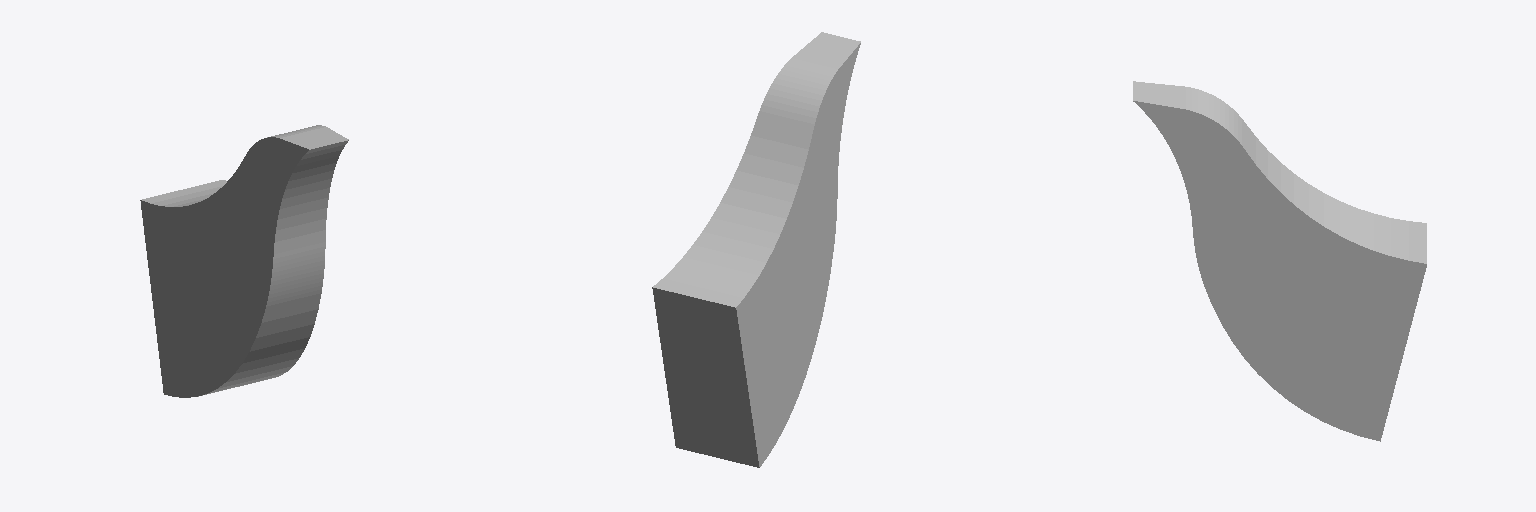
The model's file is original-4.obj.
3 renders of one model, left to right at view 1: azimuth 30°, elevation 25°; view 2: azimuth 150°, elevation 25°; view 3: azimuth 270°, elevation 25°, orthographic.
Parts seen in each view (by area): view 1: Group4/mesh9/mesh9-geometry#mesh9-geometry; view 2: Group4/mesh9/mesh9-geometry#mesh9-geometry; view 3: Group4/mesh9/mesh9-geometry#mesh9-geometry.
Boxes of the visible parts, x1,y1,x2,y2 form: Group4/mesh9/mesh9-geometry#mesh9-geometry: [140, 125, 348, 397]; Group4/mesh9/mesh9-geometry#mesh9-geometry: [652, 32, 860, 467]; Group4/mesh9/mesh9-geometry#mesh9-geometry: [1133, 81, 1426, 441].
Size of the model in its own units: 0.1825 by 0.6867 by 0.5559.